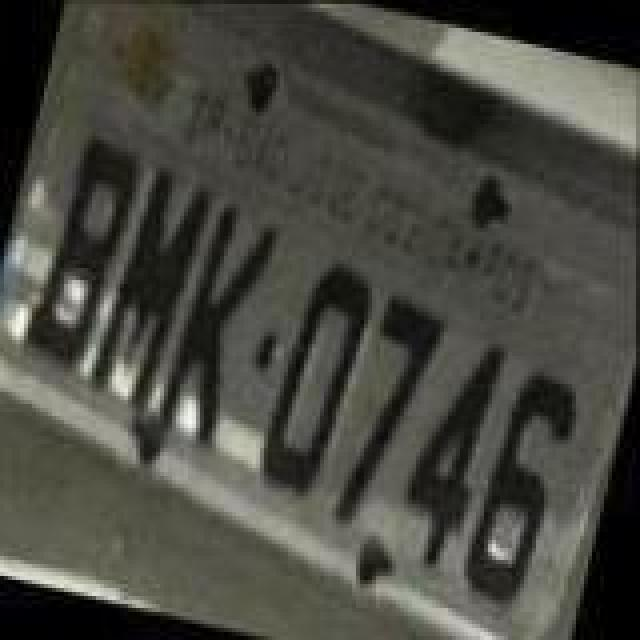4: (394, 326, 514, 574)
6: (460, 358, 592, 610)
7: (332, 288, 464, 540)
B: (18, 126, 146, 370)
K: (156, 198, 288, 454)
M: (82, 158, 218, 410)
O: (254, 256, 382, 500)
